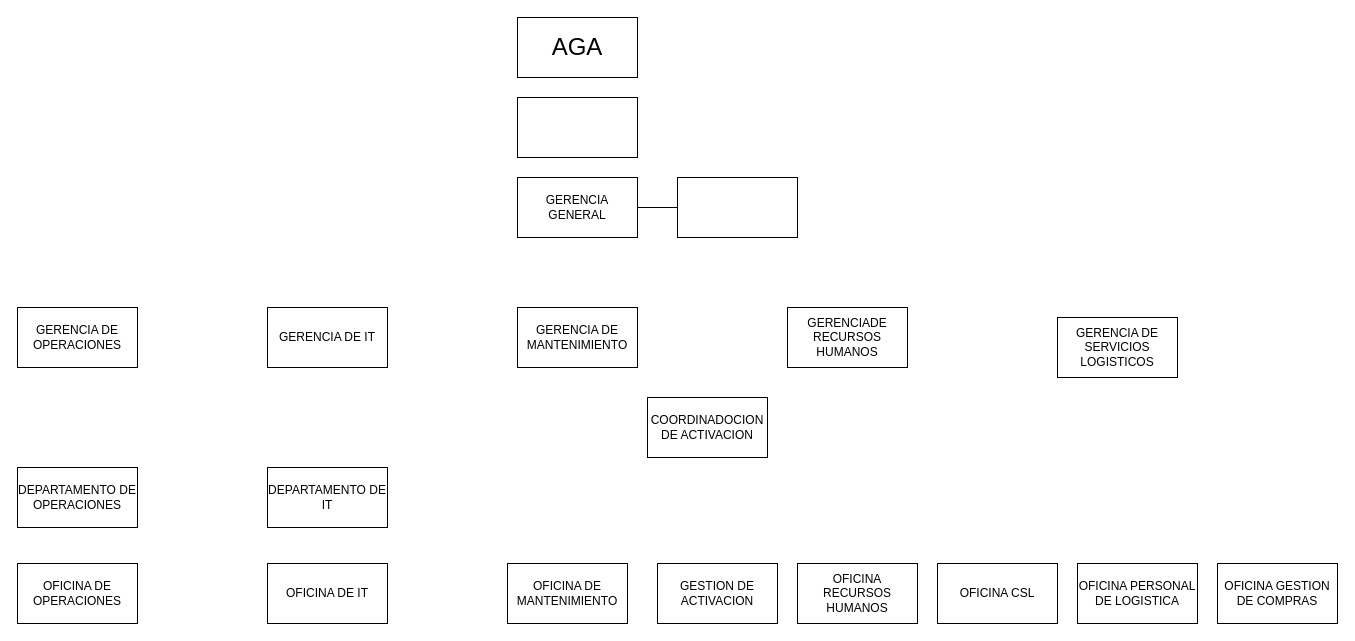
Image size: 1355x641. Some labels were removed from this diagram. The shapes that lost their labels are listed below. From the top down, each one's centre as x and y in pixels, then its label:
(x=577, y=127): DIRECTORIO
(x=737, y=207): EQUIPO DE CALIDAD
